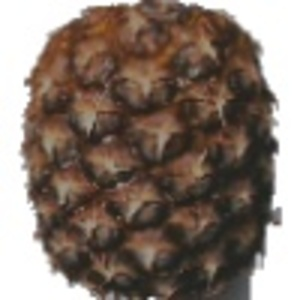abacaxi: (17, 1, 278, 292)
